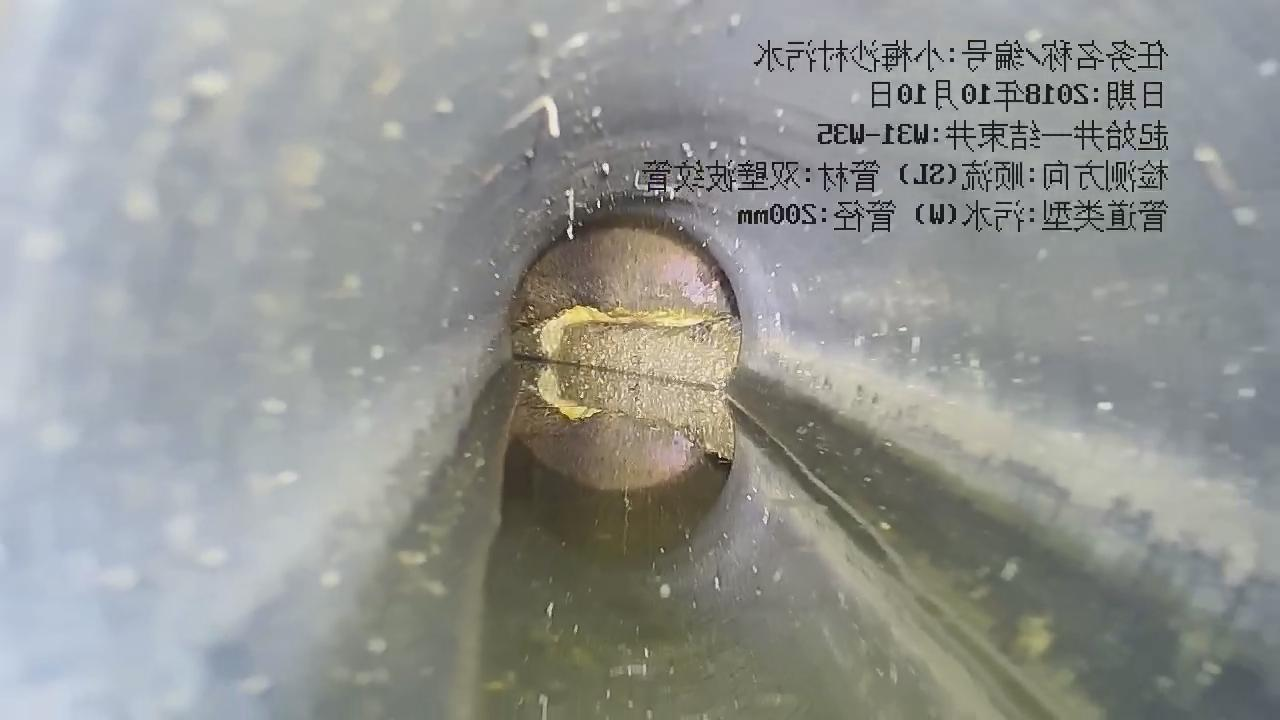CQBG: (513, 223, 741, 389)
